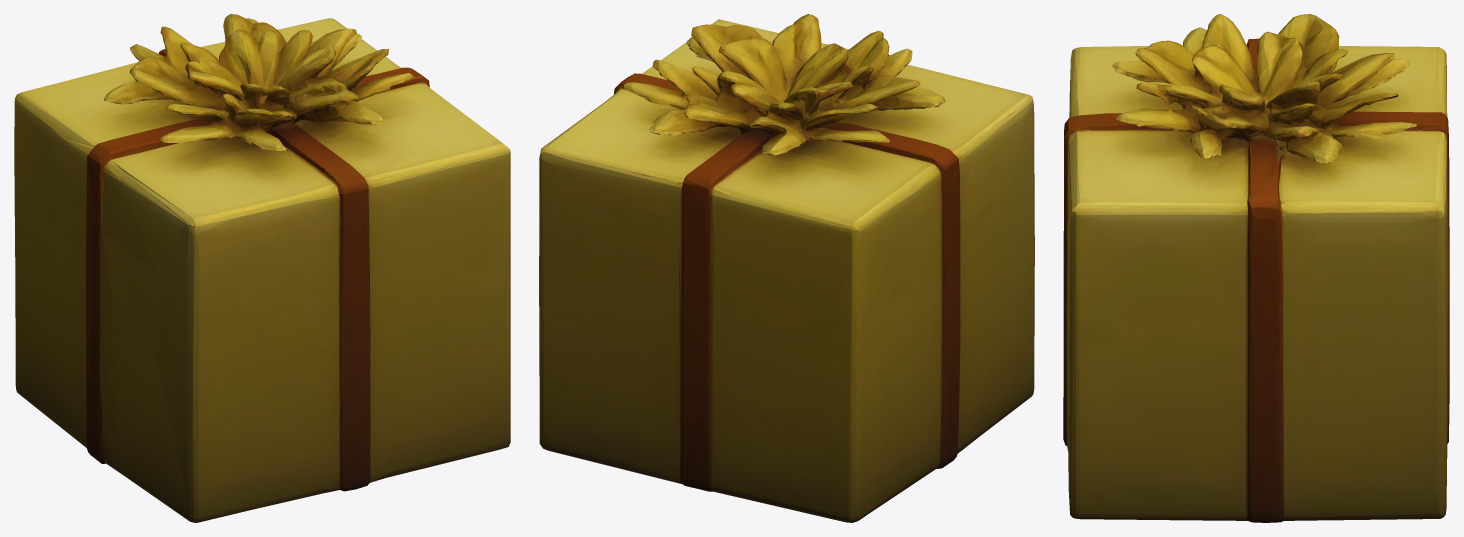
The model's file is tablet_blue.glb.
3 views of the same model, side by side, from view 1: azimuth 30°, elevation 25°; view 2: azimuth 150°, elevation 25°; view 3: azimuth 270°, elevation 25° (orthographic). The views are drawn at different scales.
Parts seen in each view (by area): view 1: geometry_0; view 2: geometry_0; view 3: geometry_0.
Boxes of the visible parts, x1=… form: geometry_0: x1=14, y1=14, x2=510, y2=522; geometry_0: x1=539, y1=14, x2=1034, y2=522; geometry_0: x1=1063, y1=14, x2=1449, y2=522.
Size of the model in its own units: 0.4667 by 0.4881 by 0.4504.
1 material, 1 textured.
